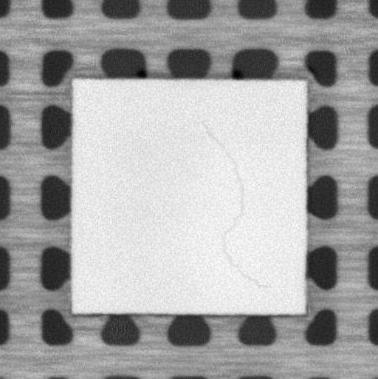DIE_CRACK: (201, 123, 266, 287)
